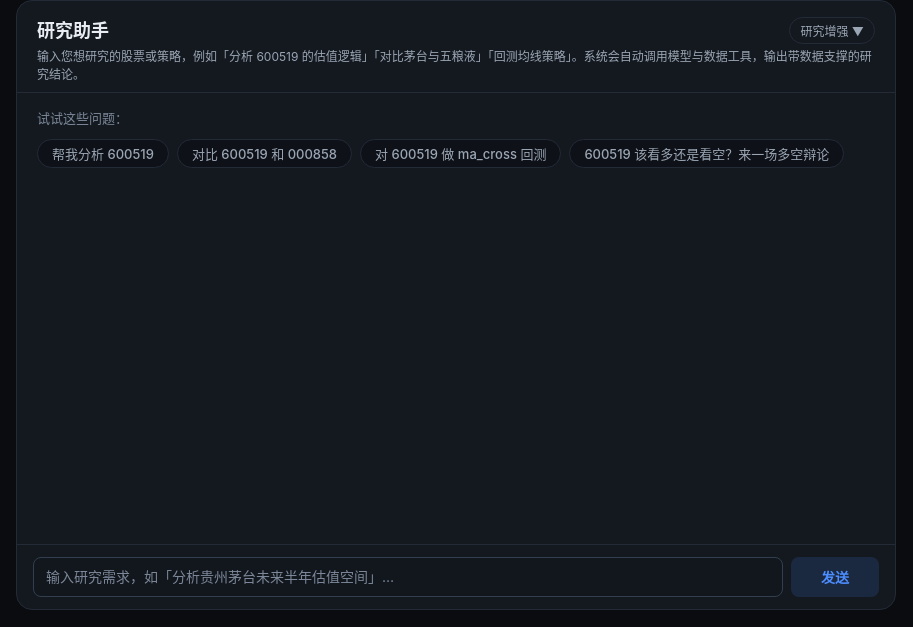
Scenario: ChatPanel › 发送消息后展示助手回复与工具徽章
The image size is (913, 627).
Type "分析 600519" into the text box named "对话输入" at (408, 577), box x1=33 y1=557 x2=783 y2=597
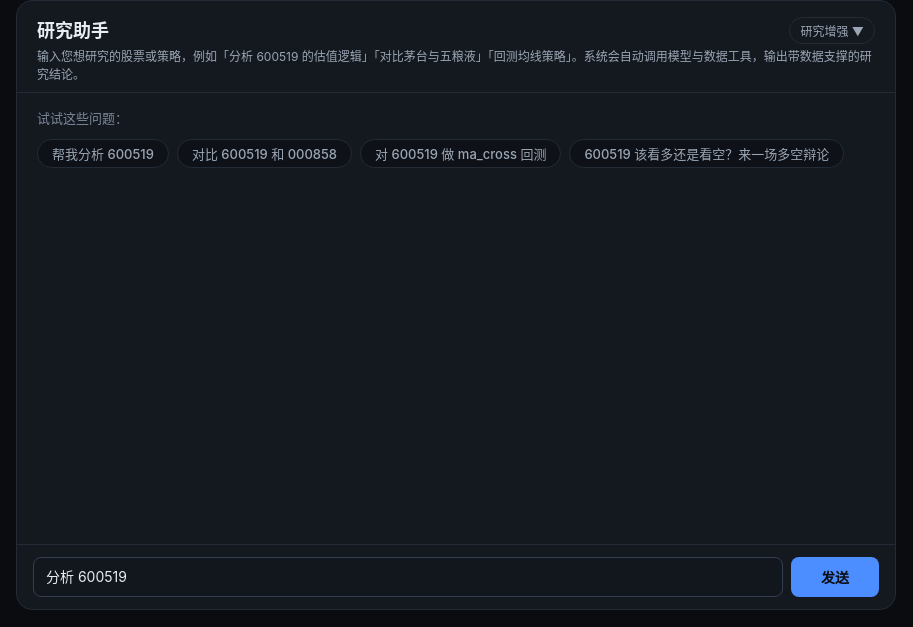
Click the button "发送" at (835, 577), box x1=791 y1=557 x2=879 y2=597
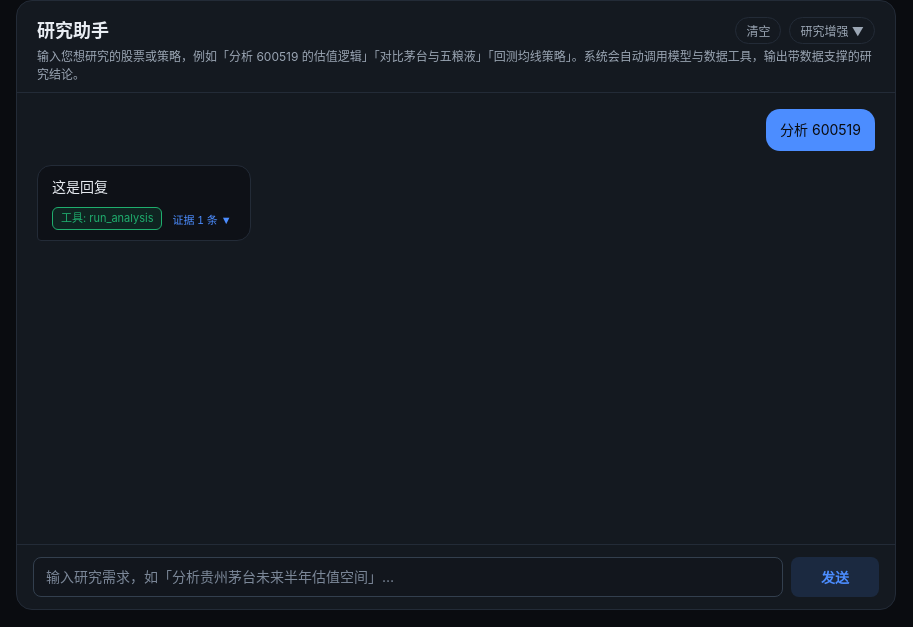
Expected: the text "这是回复" is shown, x1=52 y1=178 x2=108 y2=195
Expected: the text "工具: run_analysis" is shown, x1=52 y1=207 x2=162 y2=230
